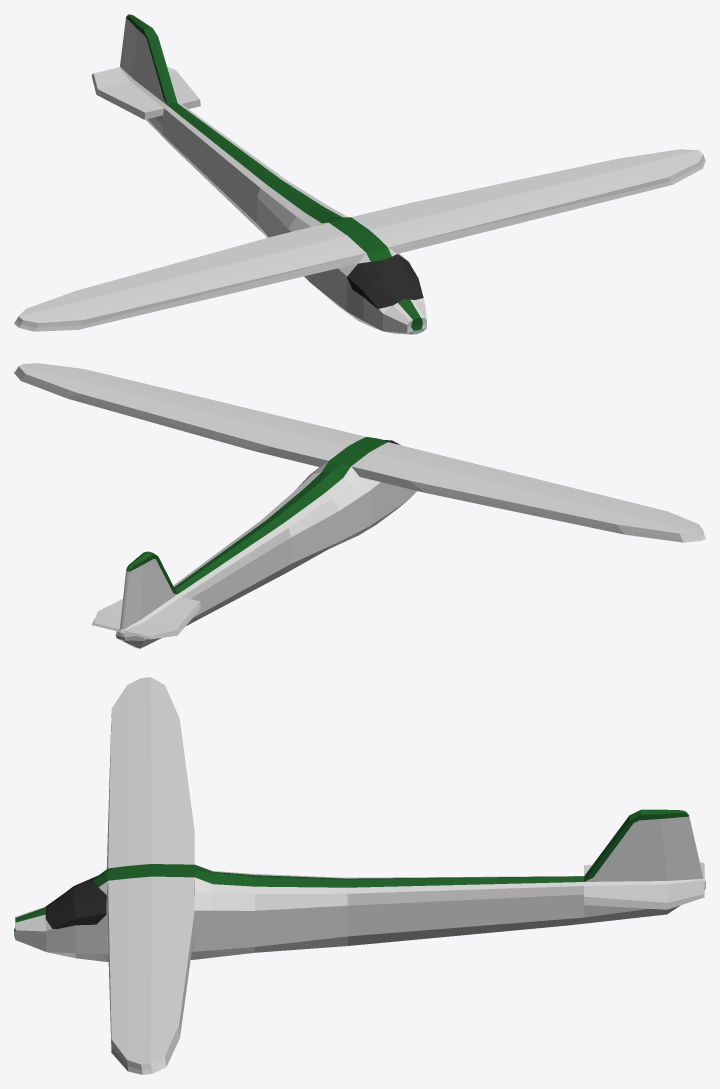
Rendered from glider.glb.
3 renders of one model, top to bottom at view 1: azimuth 30°, elevation 25°; view 2: azimuth 150°, elevation 25°; view 3: azimuth 270°, elevation 25°, orthographic. The views are drawn at different scales.
Parts seen in each view (by area): view 1: Body; view 2: Body; view 3: Body.
Boxes of the visible parts, x1,y1,x2,y2 form: Body: (14, 14, 705, 334); Body: (14, 363, 705, 648); Body: (14, 677, 705, 1074).
Size of the model in its own units: 9.73 by 1.68 by 7.29.
